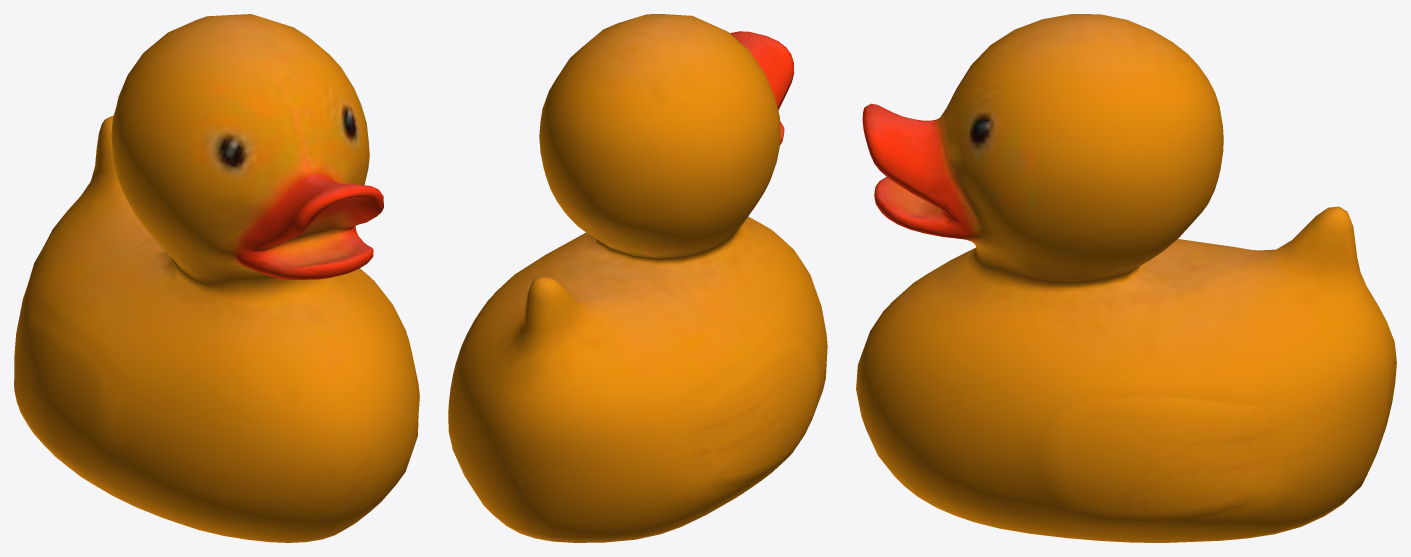
The model's file is ph_rubber_duck_toy.glb.
3 views of the same model, side by side, from view 1: azimuth 30°, elevation 25°; view 2: azimuth 150°, elevation 25°; view 3: azimuth 270°, elevation 25° (orthographic). The views are drawn at different scales.
Parts seen in each view (by area): view 1: rubber_duck_toy; view 2: rubber_duck_toy; view 3: rubber_duck_toy.
Part boxes in pixels (x1,y1,x2,y2): rubber_duck_toy: [14, 14, 419, 542]; rubber_duck_toy: [448, 14, 827, 542]; rubber_duck_toy: [856, 14, 1396, 542].
Bounding box in the file's own units: 0.2135 × 0.2855 × 0.3.
Materials: 1 (1 with a texture image).
